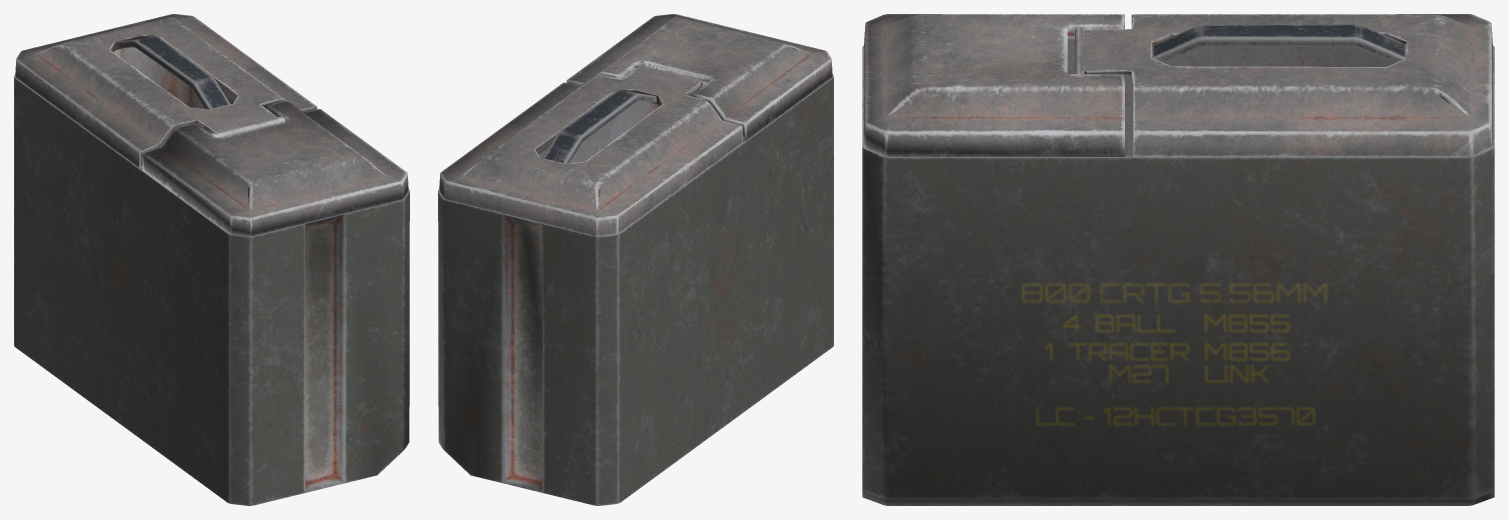
File: tpc_-_sci_fi_ammo_box.glb
3 views of the same model, side by side, from view 1: azimuth 30°, elevation 25°; view 2: azimuth 150°, elevation 25°; view 3: azimuth 270°, elevation 25° (orthographic). The views are drawn at different scales.
Parts seen in each view (by area): view 1: Object_2; view 2: Object_2; view 3: Object_2.
Part boxes in pixels (bbox=[...]): Object_2: bbox=[14, 14, 409, 505]; Object_2: bbox=[438, 14, 833, 505]; Object_2: bbox=[862, 14, 1494, 505].
Bounding box in the file's own units: 4.24 × 7.08 × 9.38.
1 material, 1 textured.
